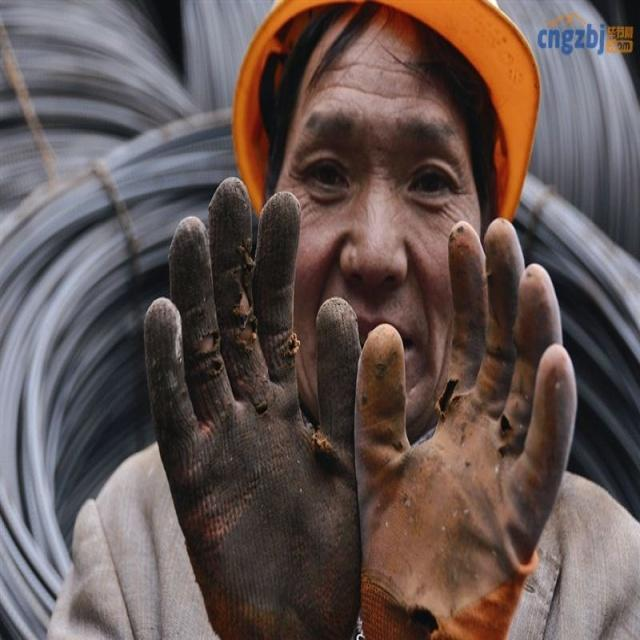helmet: (231, 1, 544, 547)
